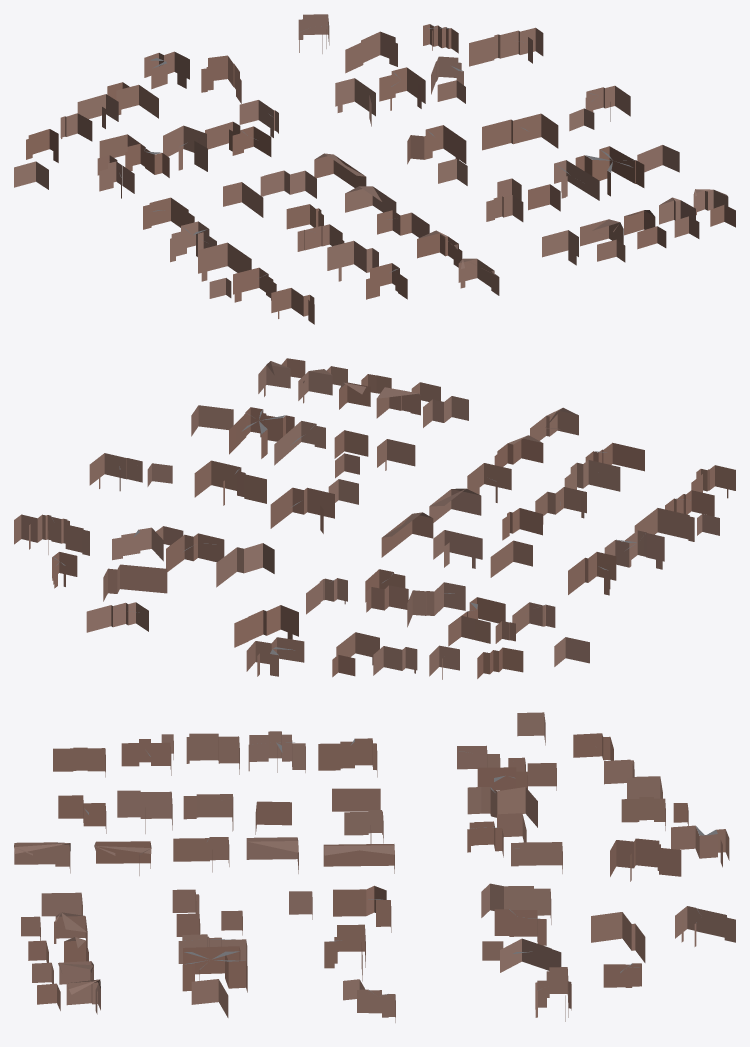
File: c_1643_17820_buildings_residential.glb
The picture shows the model from 3 angles, top to bottom: view 1: azimuth 30°, elevation 25°; view 2: azimuth 150°, elevation 25°; view 3: azimuth 270°, elevation 25°; orthographic projection. The views are drawn at different scales.
Visible parts, largest first — view 1: geometry_0; view 2: geometry_0; view 3: geometry_0.
Part boxes in pixels (<box>): geometry_0: <box>14,14,735,324</box>; geometry_0: <box>14,358,735,679</box>; geometry_0: <box>14,712,735,1022</box>.
Size of the model in its own units: 261 by 11.08 by 268.
